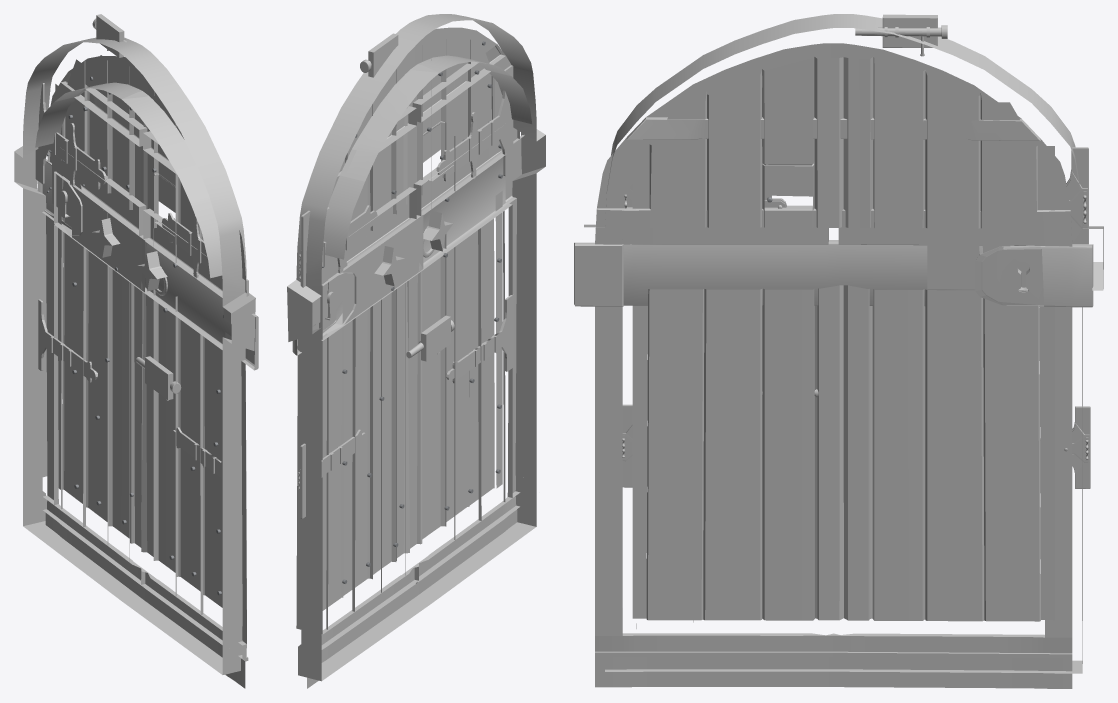
Rendered from Medieval_Door.fbx.
3 renders of one model, left to right at view 1: azimuth 30°, elevation 25°; view 2: azimuth 150°, elevation 25°; view 3: azimuth 270°, elevation 25°, orthographic. The views are drawn at different scales.
Visible parts, largest first — view 1: Bolts; view 2: Bolts; view 3: Bolts.
Boxes of the visible parts, left/top/right/bottom form: Bolts: left=14, top=14, right=258, bottom=688; Bolts: left=287, top=14, right=545, bottom=688; Bolts: left=574, top=14, right=1103, bottom=688.
Bounding box in the file's own units: 16.71 × 287 × 206.
